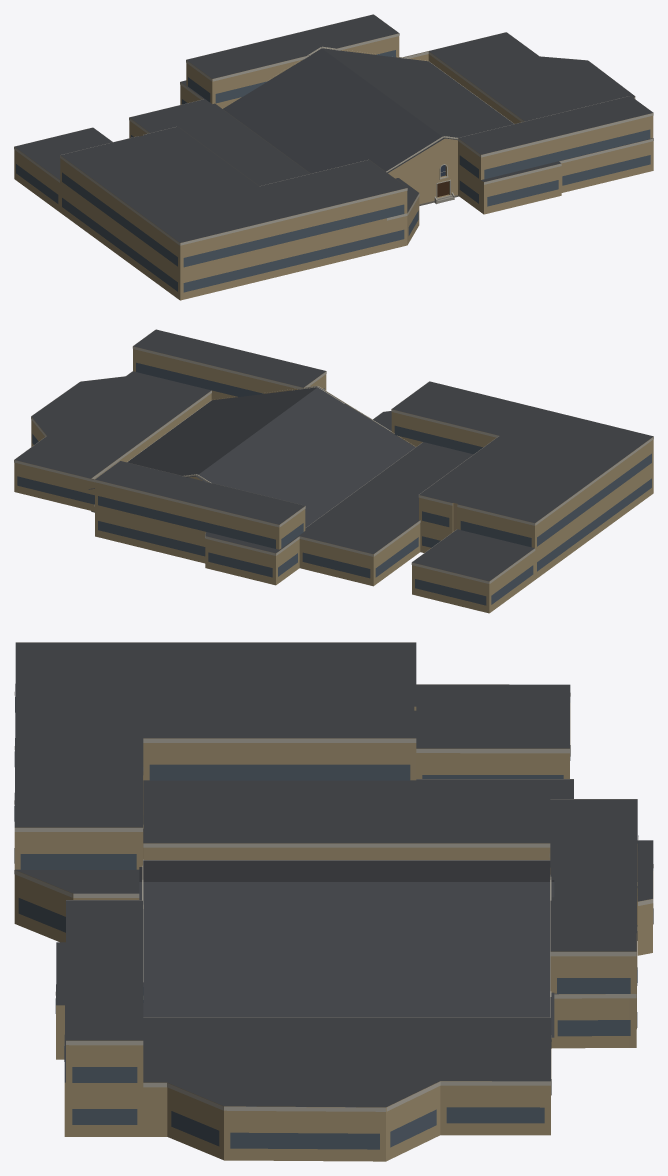
Rendered from first-umc-nlr.glb.
3 renders of one model, top to bottom at view 1: azimuth 30°, elevation 25°; view 2: azimuth 150°, elevation 25°; view 3: azimuth 270°, elevation 25°, orthographic. The views are drawn at different scales.
Parts seen in each view (by area): view 1: first_umc_nlr; view 2: first_umc_nlr; view 3: first_umc_nlr.
Boxes of the visible parts, <box> form: first_umc_nlr: <box>14,14,653,300</box>; first_umc_nlr: <box>14,329,653,613</box>; first_umc_nlr: <box>14,642,653,1161</box>.
Size of the model in its own units: 97.23 by 11.56 by 62.13.
